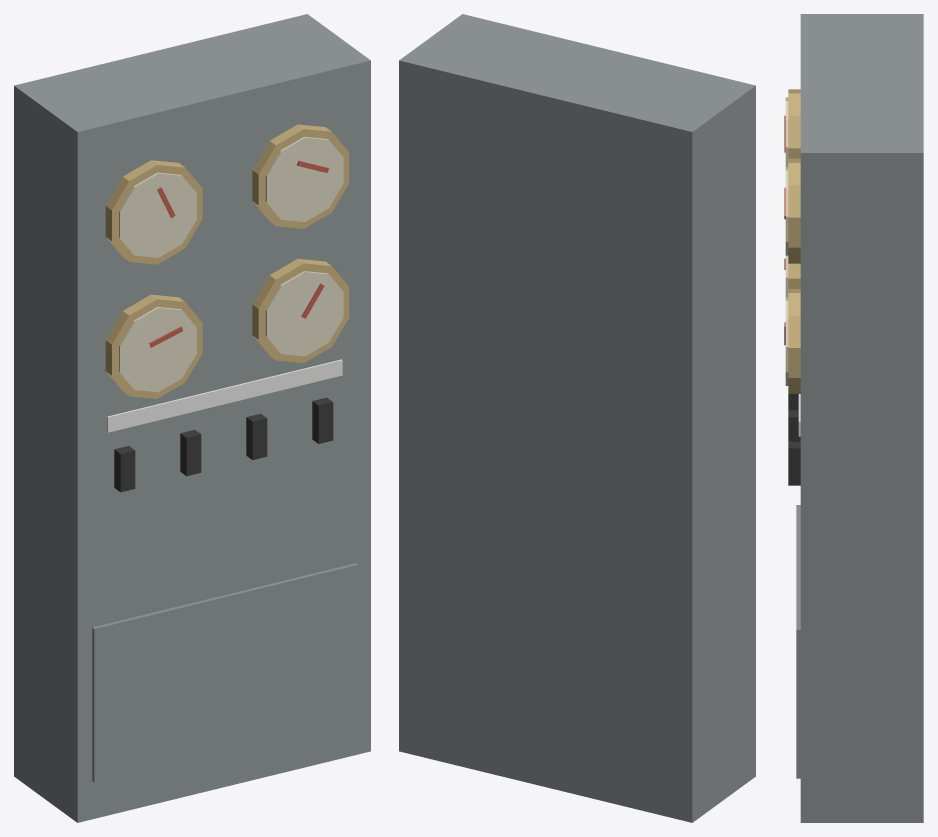
Rendered from furn_gauge_panel.fbx.
3 views of the same model, side by side, from view 1: azimuth 30°, elevation 25°; view 2: azimuth 150°, elevation 25°; view 3: azimuth 270°, elevation 25° (orthographic). The views are drawn at different scales.
Visible parts, largest first — view 1: furn_gauge_panel; view 2: furn_gauge_panel; view 3: furn_gauge_panel.
Boxes of the visible parts, box(x1,y1,x2,y2) form: furn_gauge_panel: box(14, 14, 370, 822); furn_gauge_panel: box(399, 14, 755, 822); furn_gauge_panel: box(784, 14, 923, 822).
Size of the model in its own units: 0.8 by 1.8 by 0.34.
